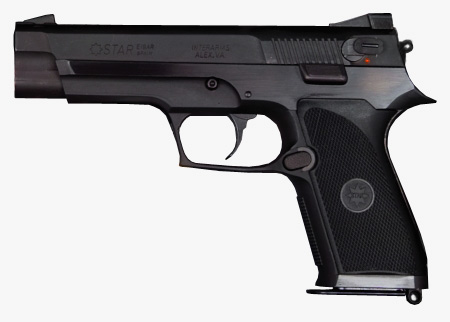Arma Real: (9, 11, 444, 305)
